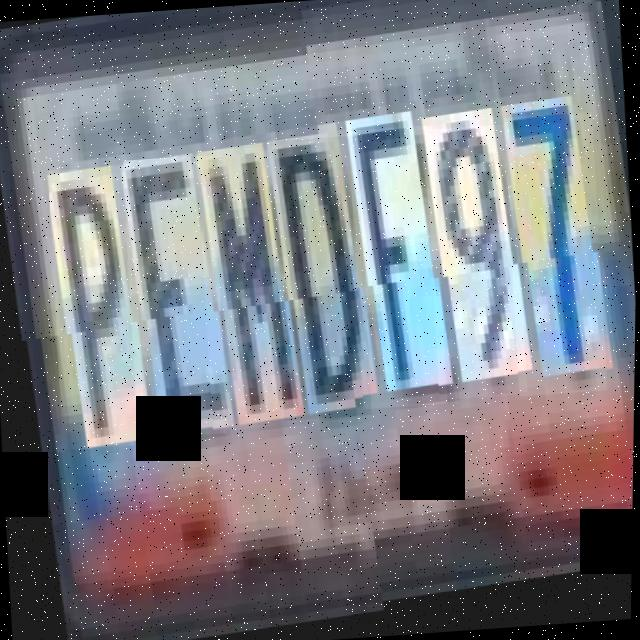7: (501, 112, 611, 397)
9: (421, 123, 532, 399)
D: (266, 136, 376, 420)
E: (121, 154, 231, 440)
F: (345, 125, 452, 410)
M: (195, 145, 302, 430)
P: (45, 165, 152, 450)
